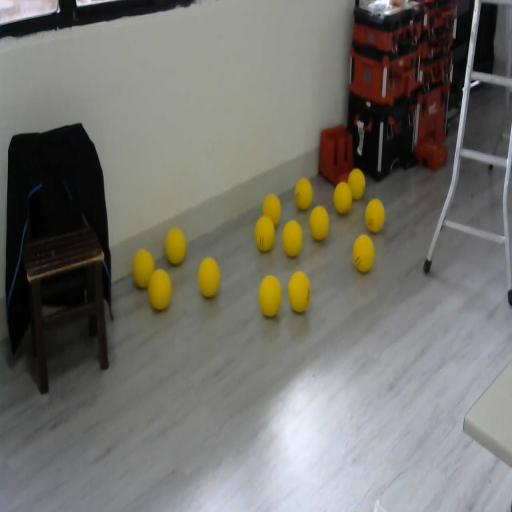FUEL: (147, 268, 172, 312), (258, 274, 282, 318), (197, 256, 221, 298), (288, 271, 310, 314), (352, 233, 374, 274), (132, 249, 154, 289), (164, 228, 186, 265), (282, 219, 303, 257), (364, 198, 386, 233), (309, 206, 329, 241), (262, 194, 282, 228), (294, 177, 313, 211), (334, 181, 352, 215), (347, 168, 366, 200)
